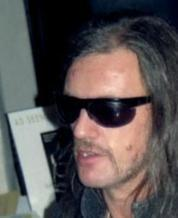face: (61, 92, 137, 165)
